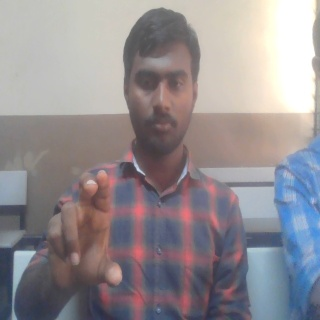Face: (121, 7, 203, 155)
No: (43, 167, 126, 292)
